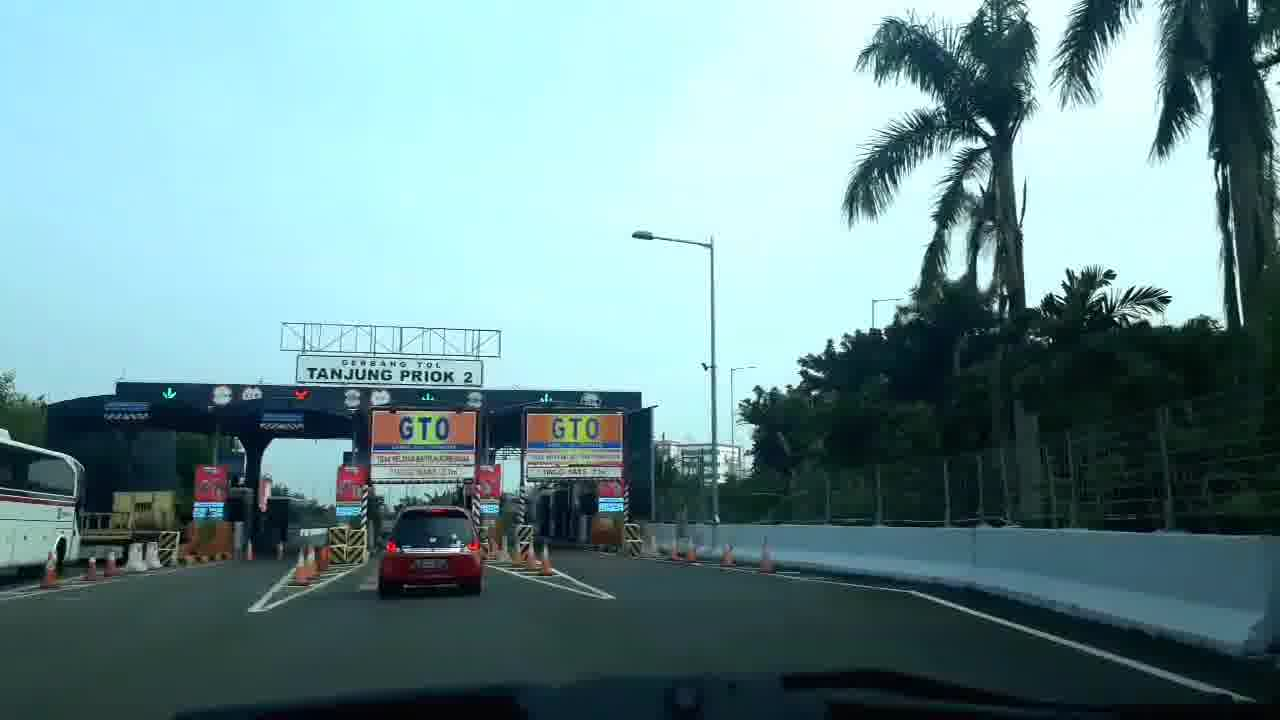plate_positive: (414, 560, 446, 569)
